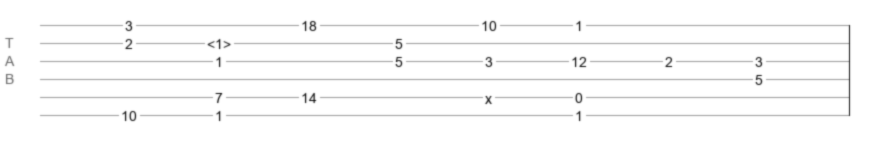0: (575, 90, 583, 100)
1: (215, 108, 223, 118), (215, 54, 223, 64), (575, 108, 583, 118), (575, 18, 583, 28)
10: (121, 108, 137, 118), (481, 18, 497, 28)
12: (571, 54, 587, 64)
14: (301, 90, 317, 100)
18: (301, 18, 317, 28)
2: (125, 36, 133, 46), (665, 54, 673, 64)
3: (125, 18, 133, 28), (485, 54, 493, 64), (755, 54, 763, 64)
5: (395, 54, 403, 64), (395, 36, 403, 46), (755, 72, 763, 82)
7: (215, 90, 223, 100)
harmonic: (207, 36, 231, 46)
x: (485, 91, 492, 99)
